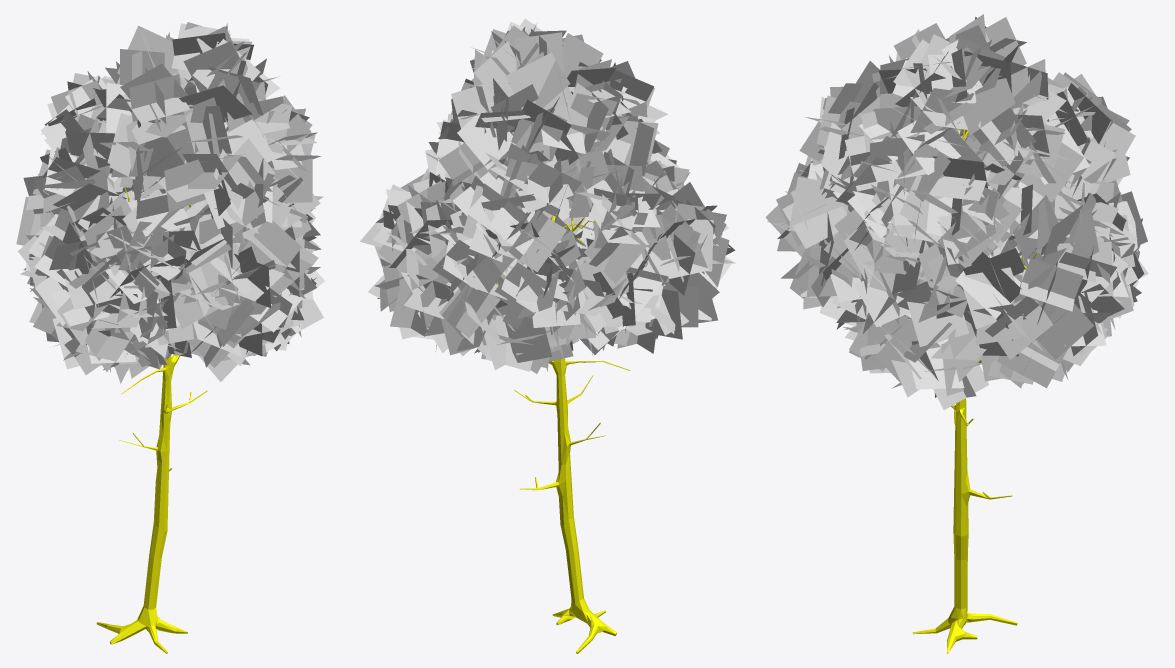
File: tree_birch_c.glb
3 views of the same model, side by side, from view 1: azimuth 30°, elevation 25°; view 2: azimuth 150°, elevation 25°; view 3: azimuth 270°, elevation 25° (orthographic). The views are drawn at different scales.
Visible parts, largest first — view 1: Birch_03_LOD0, SM_Birch_03_LOD0; view 2: Birch_03_LOD0, SM_Birch_03_LOD0; view 3: Birch_03_LOD0, SM_Birch_03_LOD0.
Part boxes in pixels (x1,y1,x2,y2): Birch_03_LOD0: (16, 22, 324, 383); SM_Birch_03_LOD0: (96, 184, 207, 653); Birch_03_LOD0: (359, 18, 735, 373); SM_Birch_03_LOD0: (496, 215, 630, 653); Birch_03_LOD0: (765, 14, 1148, 409); SM_Birch_03_LOD0: (912, 129, 1036, 653).
Size of the model in its own units: 6.66 by 12.3 by 6.87.
